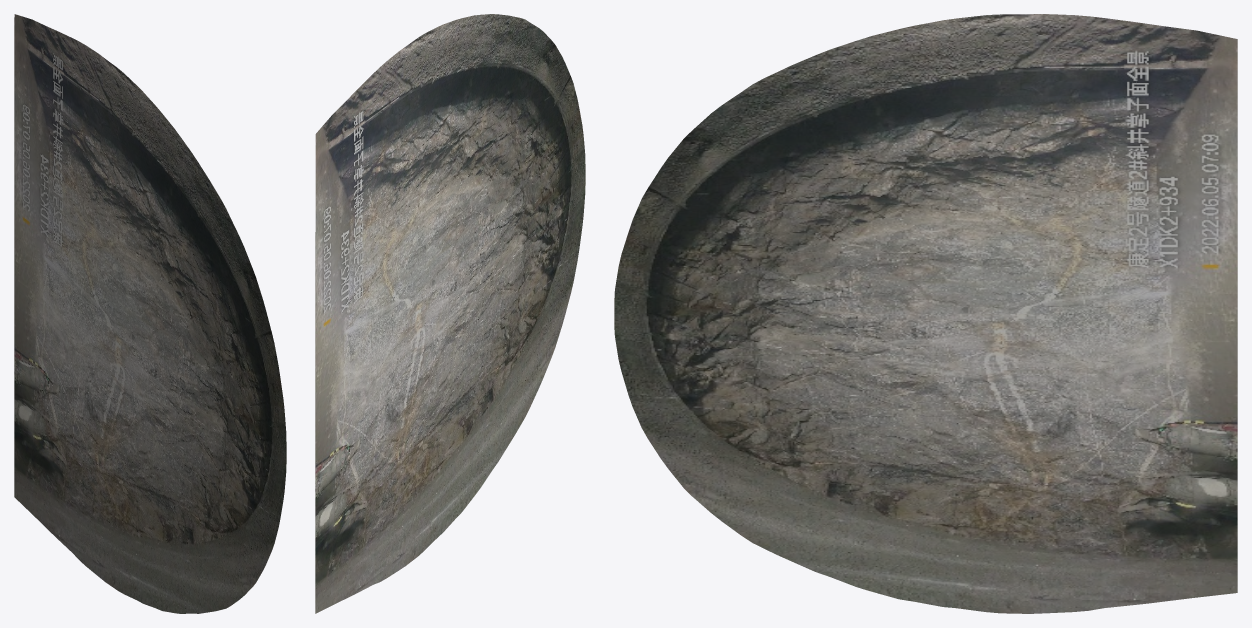
3 renders of one model, left to right at view 1: azimuth 30°, elevation 25°; view 2: azimuth 150°, elevation 25°; view 3: azimuth 270°, elevation 25°, orthographic. The views are drawn at different scales.
Visible parts, largest first — view 1: Node; view 2: Node; view 3: Node.
Boxes of the visible parts, box(x1,y1,x2,y2) form: Node: box(14, 14, 286, 613); Node: box(315, 14, 585, 613); Node: box(614, 14, 1237, 613).
Bounding box in the file's own units: 0 × 9.55 × 9.
Materials: 1 (1 with a texture image).
